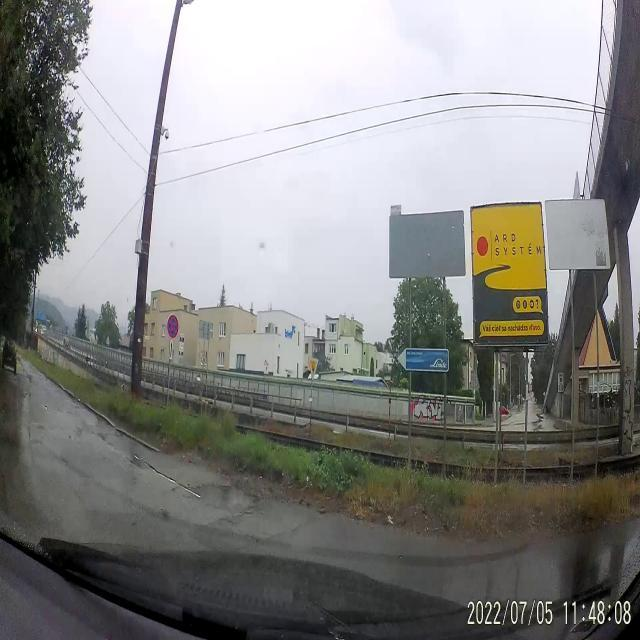Pothole: (192, 474, 254, 518)
